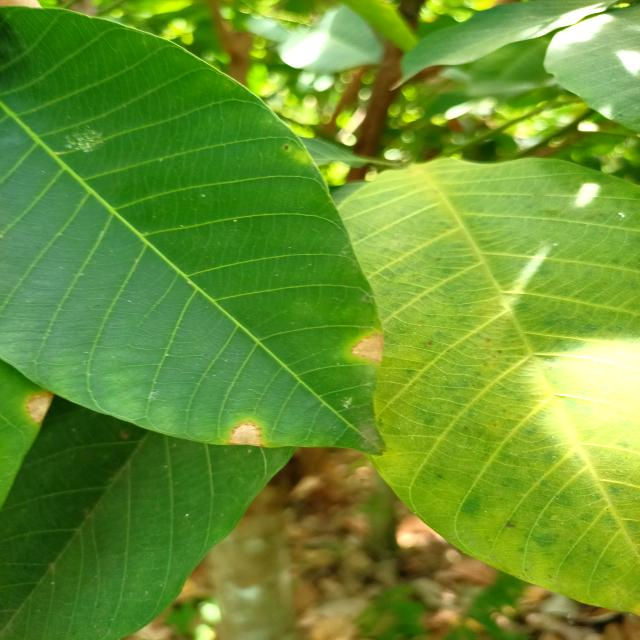Leaf-Blight: (350, 333, 384, 363), (228, 421, 264, 446), (26, 392, 54, 424)
